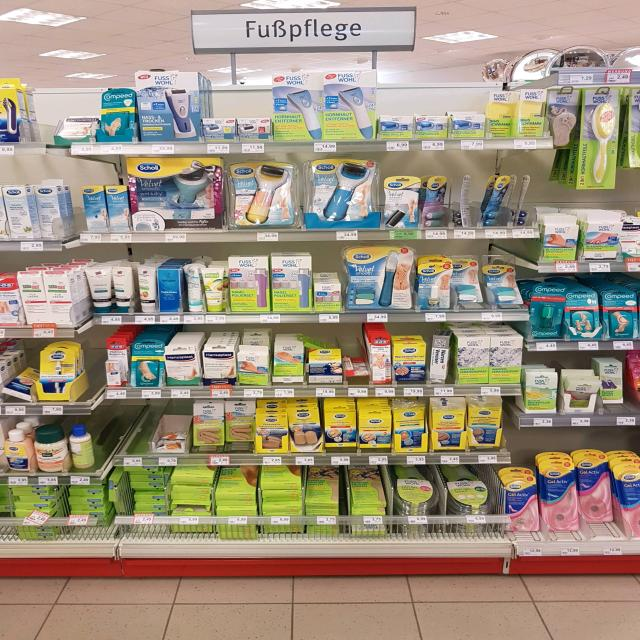empty: (16, 82, 57, 144), (116, 396, 150, 452)
